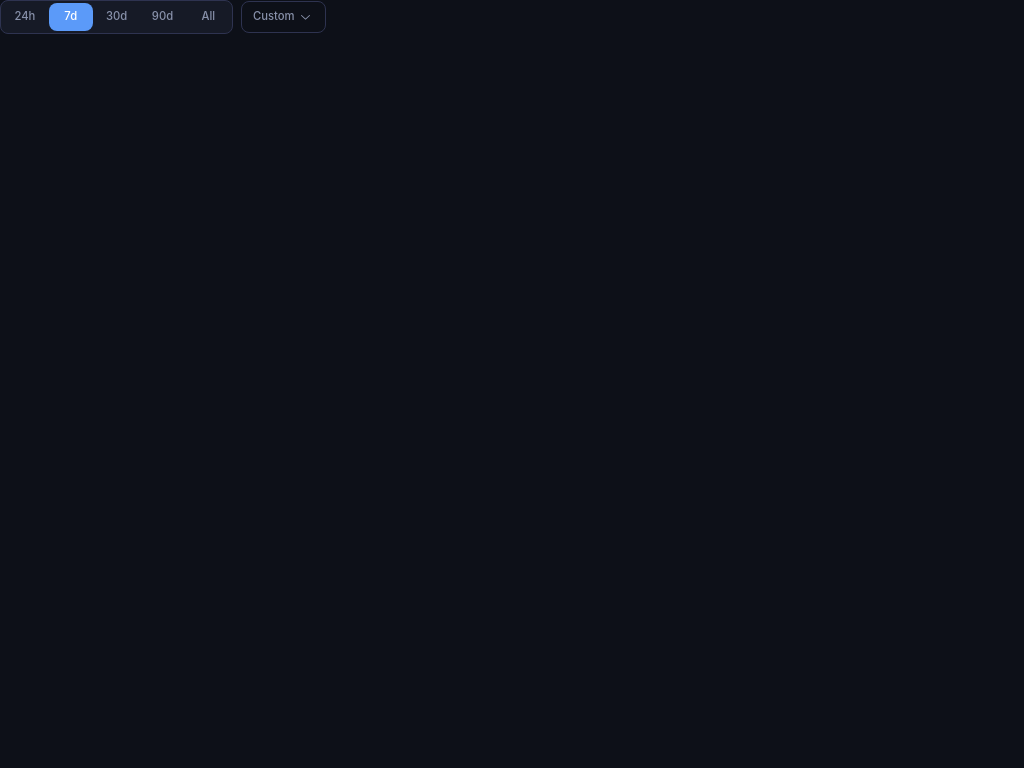
Test: RangePicker custom form › pre-fills From/To from the current resolved window
Click the button with test id "range-custom-toggle" at (283, 17), box [241,1,326,33]
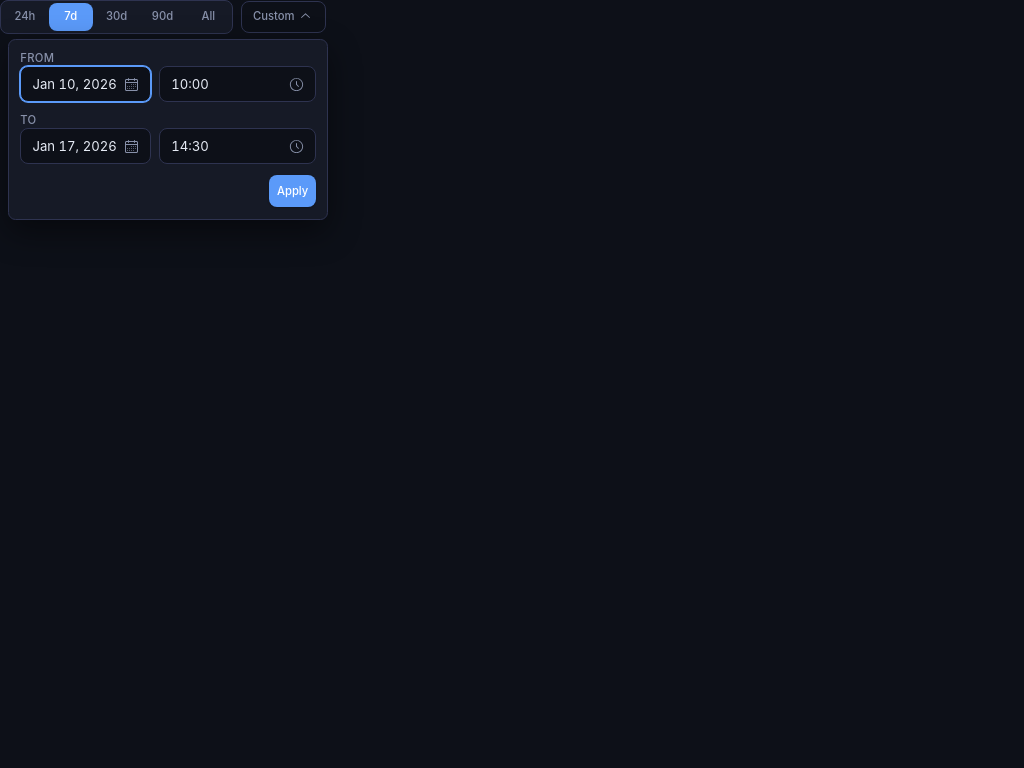
Expected: the button with test id "range-custom-from-time" reads "10:00", [159,66,316,102]
Expected: the button with test id "range-custom-to-time" reads "14:30", [159,128,316,164]
